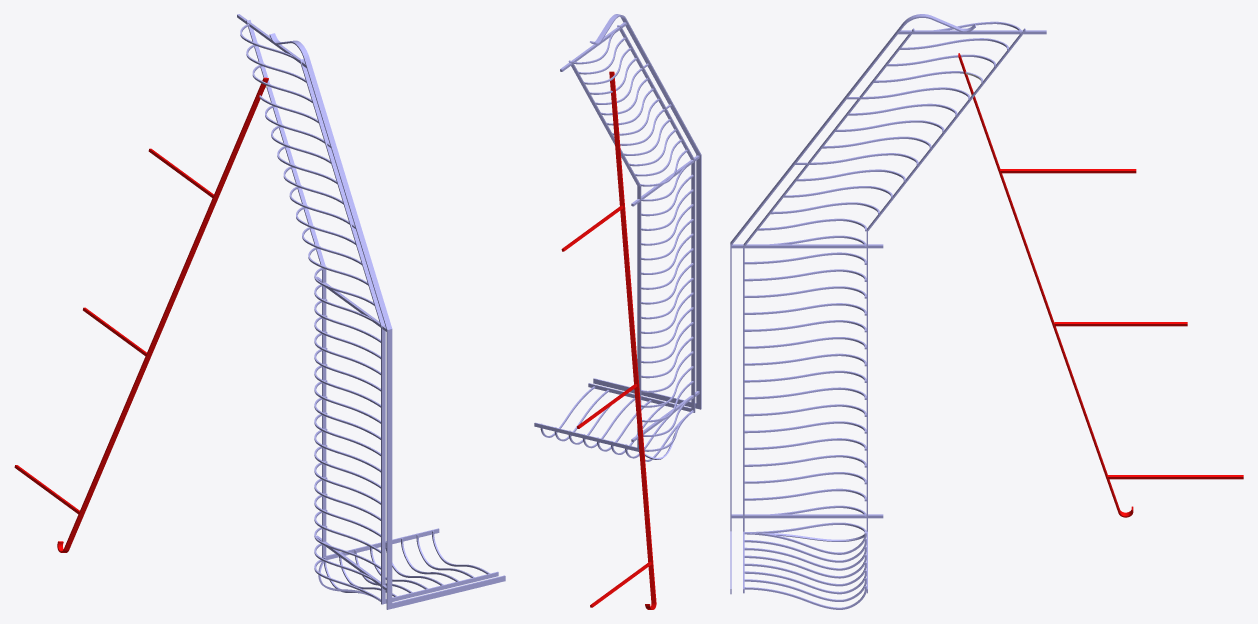
Rendered from rampe1.gltf.
3 views of the same model, side by side, from view 1: azimuth 30°, elevation 25°; view 2: azimuth 150°, elevation 25°; view 3: azimuth 270°, elevation 25° (orthographic). The views are drawn at different scales.
Parts seen in each view (by area): view 1: Part 32; view 2: Part 32; view 3: Part 32.
Boxes of the visible parts, x1,y1,x2,y2 form: Part 32: [14, 14, 505, 609]; Part 32: [534, 14, 701, 609]; Part 32: [730, 14, 1243, 609].
Bounding box in the file's own units: 2.04 × 4.17 × 3.39.
